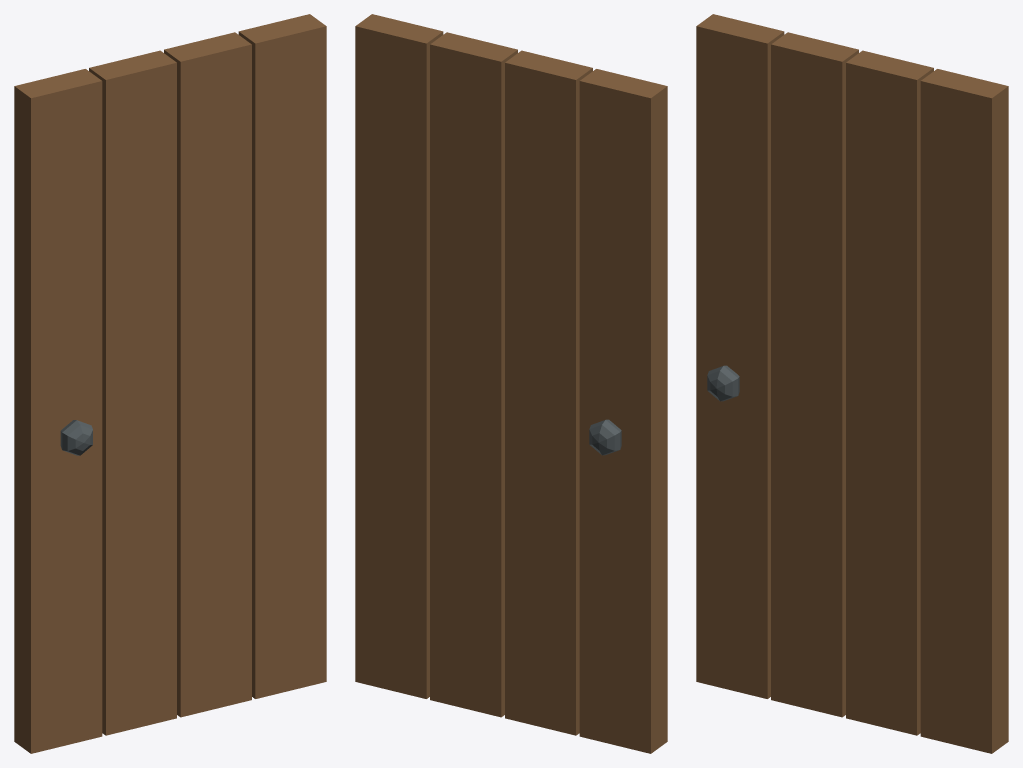
File: House_01_1.fbx
3 views of the same model, side by side, from view 1: azimuth 30°, elevation 25°; view 2: azimuth 150°, elevation 25°; view 3: azimuth 330°, elevation 25° (orthographic).
Visible parts, largest first — view 1: House_01_1; view 2: House_01_1; view 3: House_01_1.
Boxes of the visible parts, left/top/right/bottom form: House_01_1: left=14, top=14, right=326, bottom=753; House_01_1: left=355, top=14, right=667, bottom=753; House_01_1: left=696, top=14, right=1008, bottom=753.
Bounding box in the file's own units: 88.63 × 188 × 25.37.
